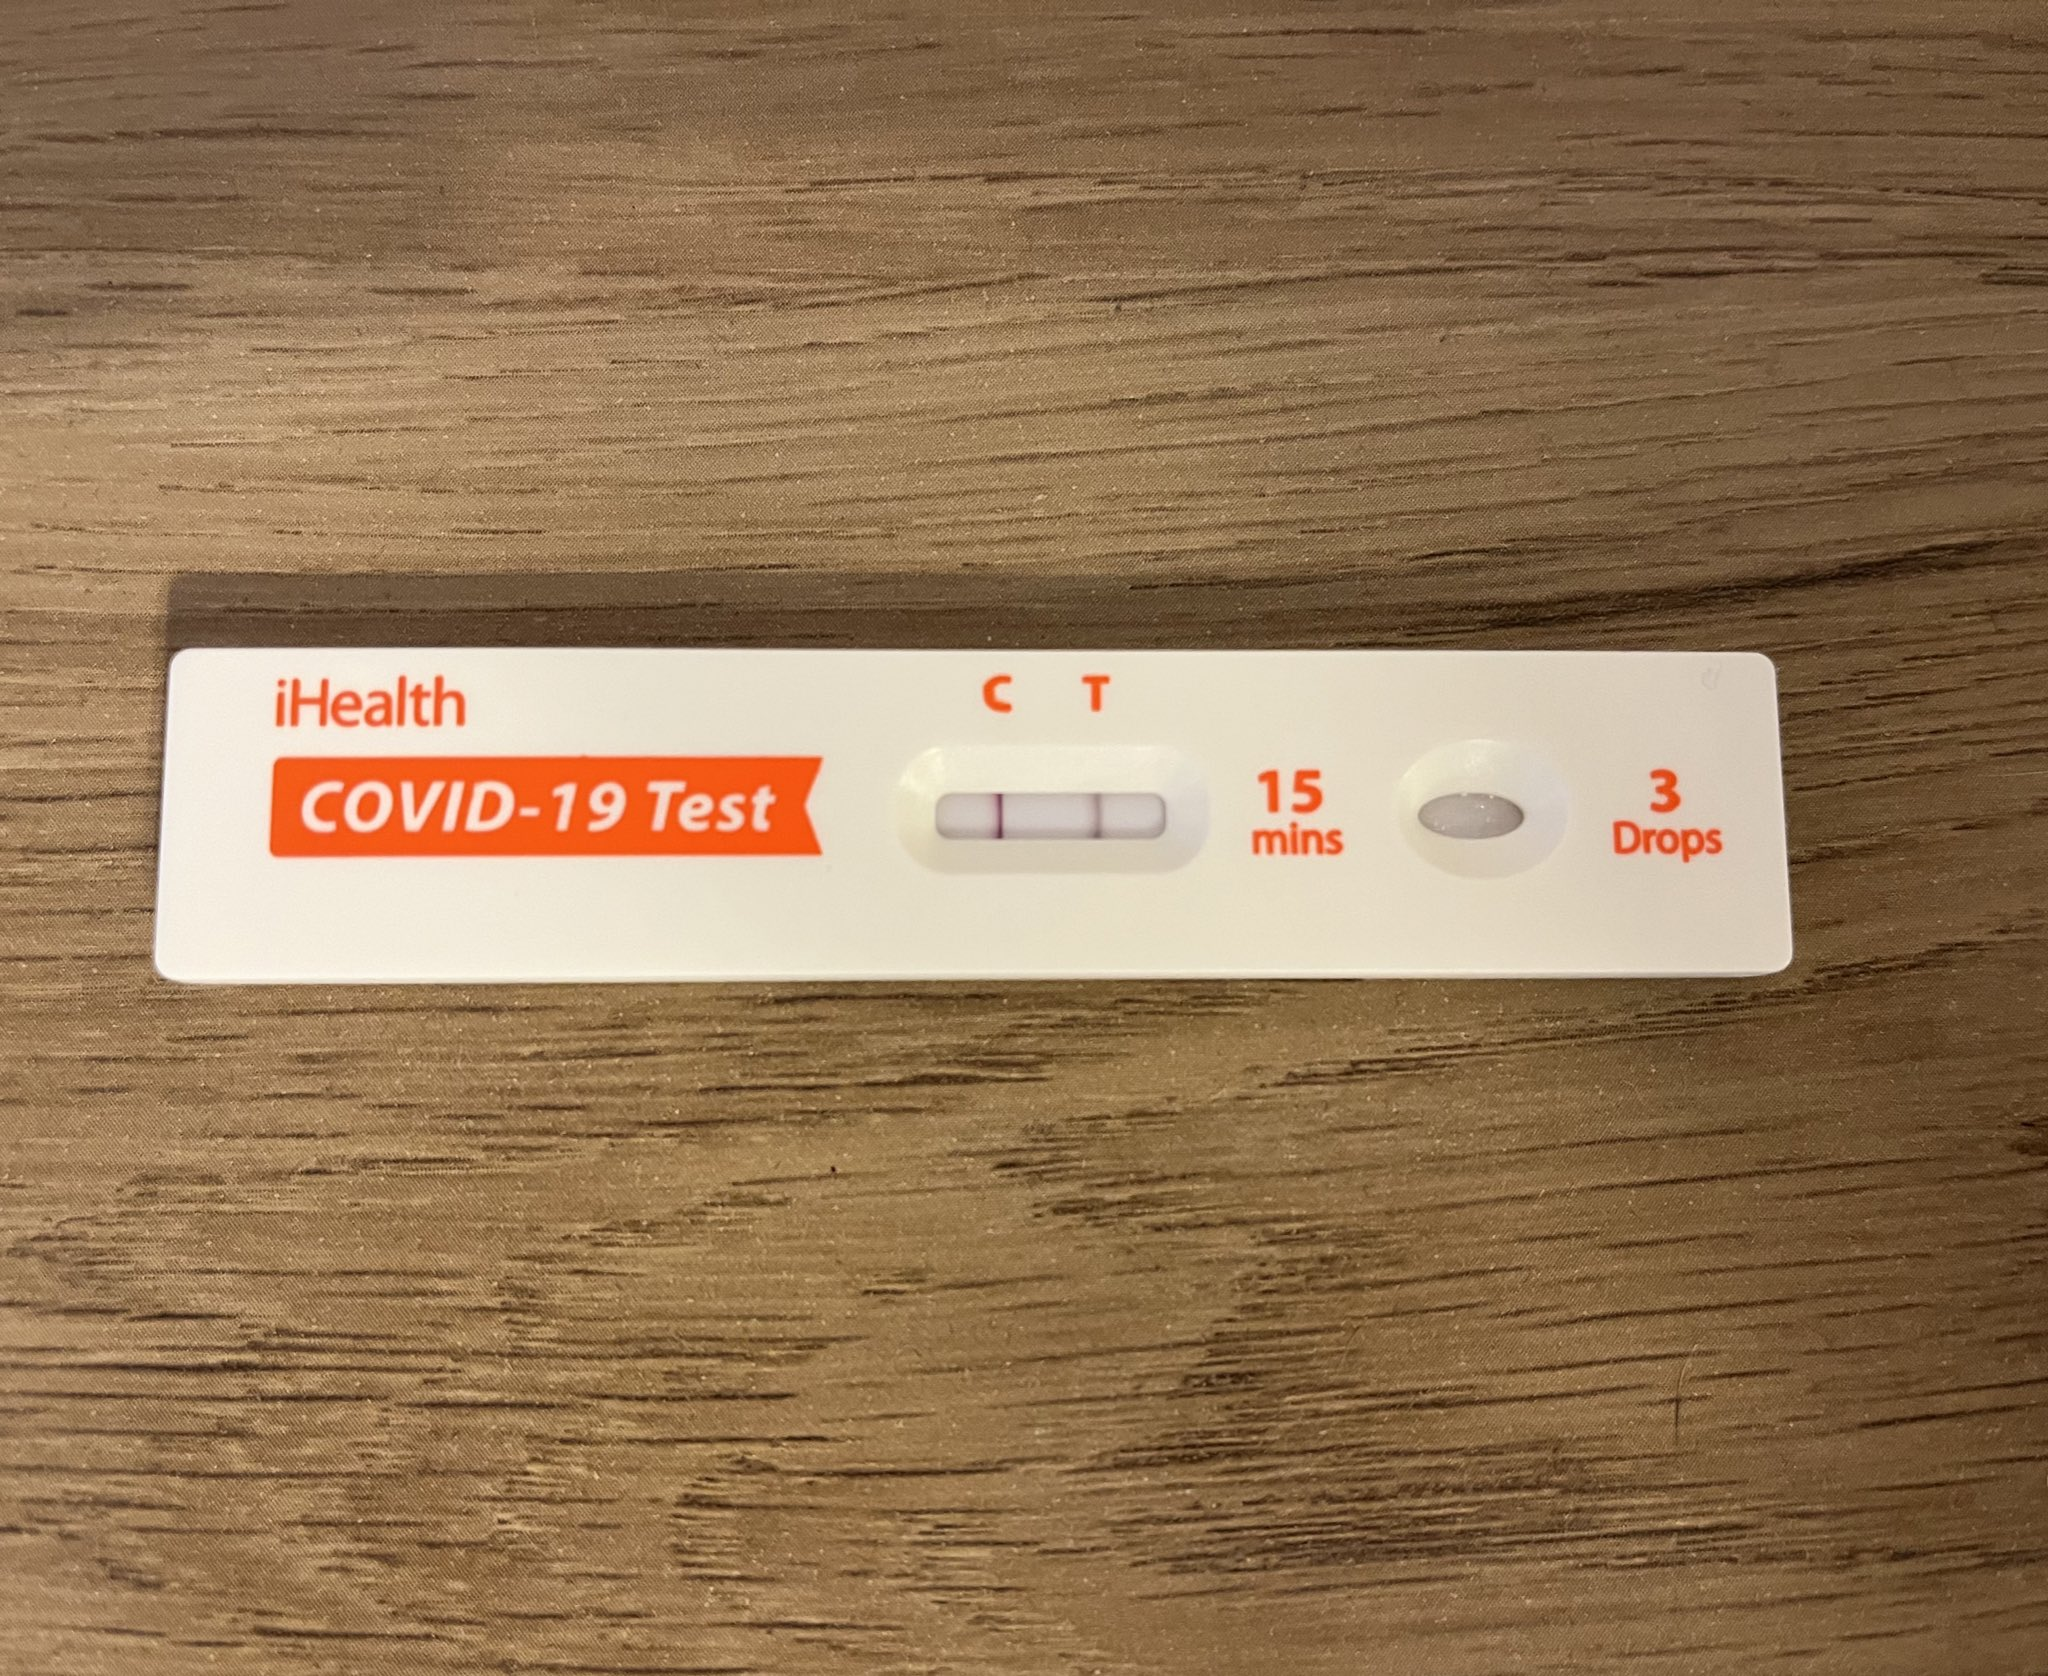positive: (908, 745, 1203, 868)
